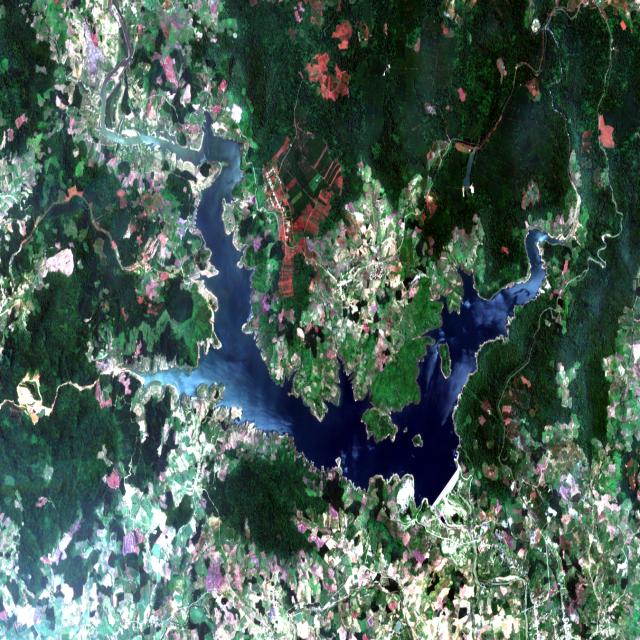bard_land: (438, 342, 452, 379), (412, 434, 423, 448)
river: (100, 17, 573, 503)
